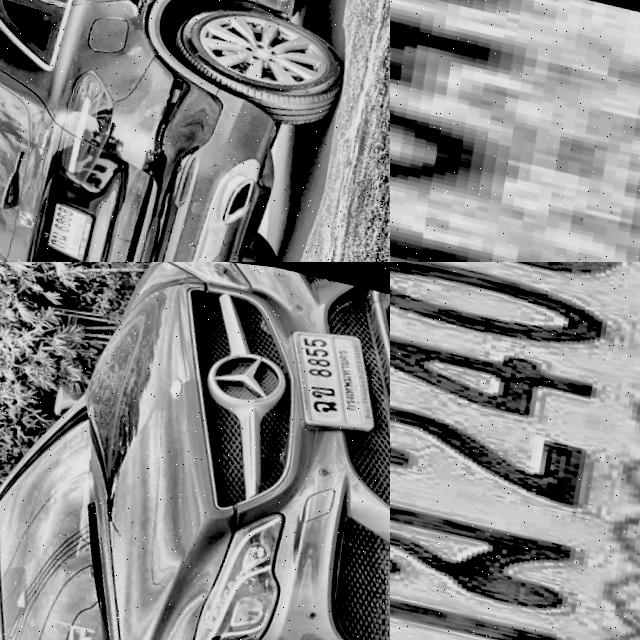license-plate: (390, 262, 640, 640), (390, 0, 640, 262), (278, 307, 390, 429), (45, 191, 94, 254)
